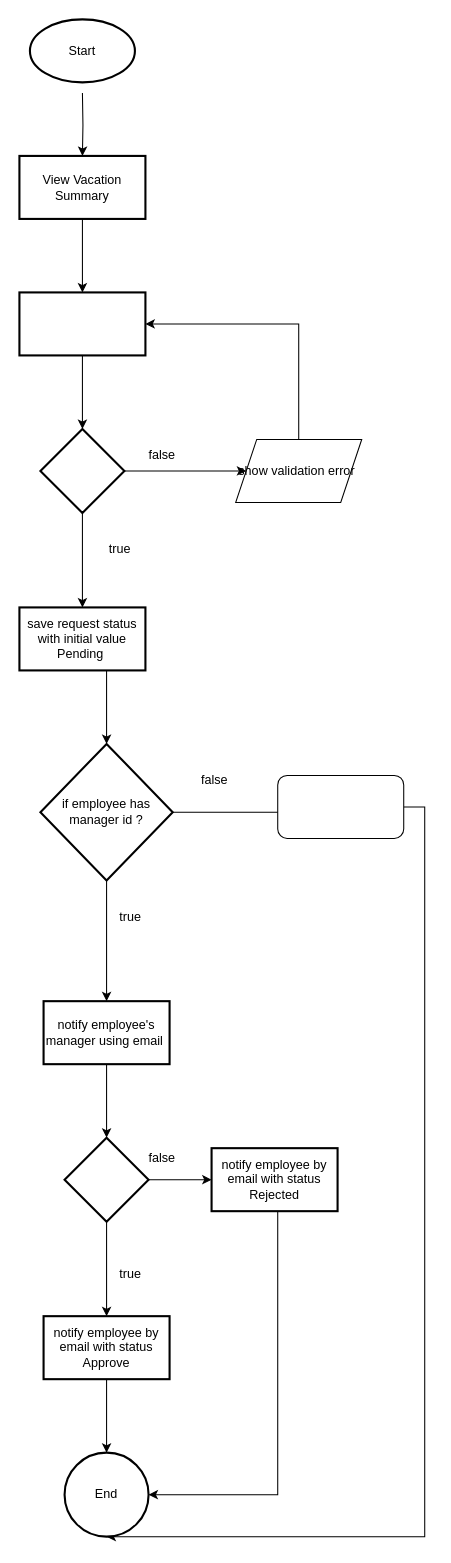
Some shapes in this 451 by 1563 pixel diagram are drawn without their labels. Each missing label, with the box of its shape:
Apply vacation request: (18, 291, 146, 356)
is manager accept: (63, 1136, 149, 1222)
is request valid?: (39, 427, 125, 513)
update the request with Approve status: (277, 774, 404, 838)
